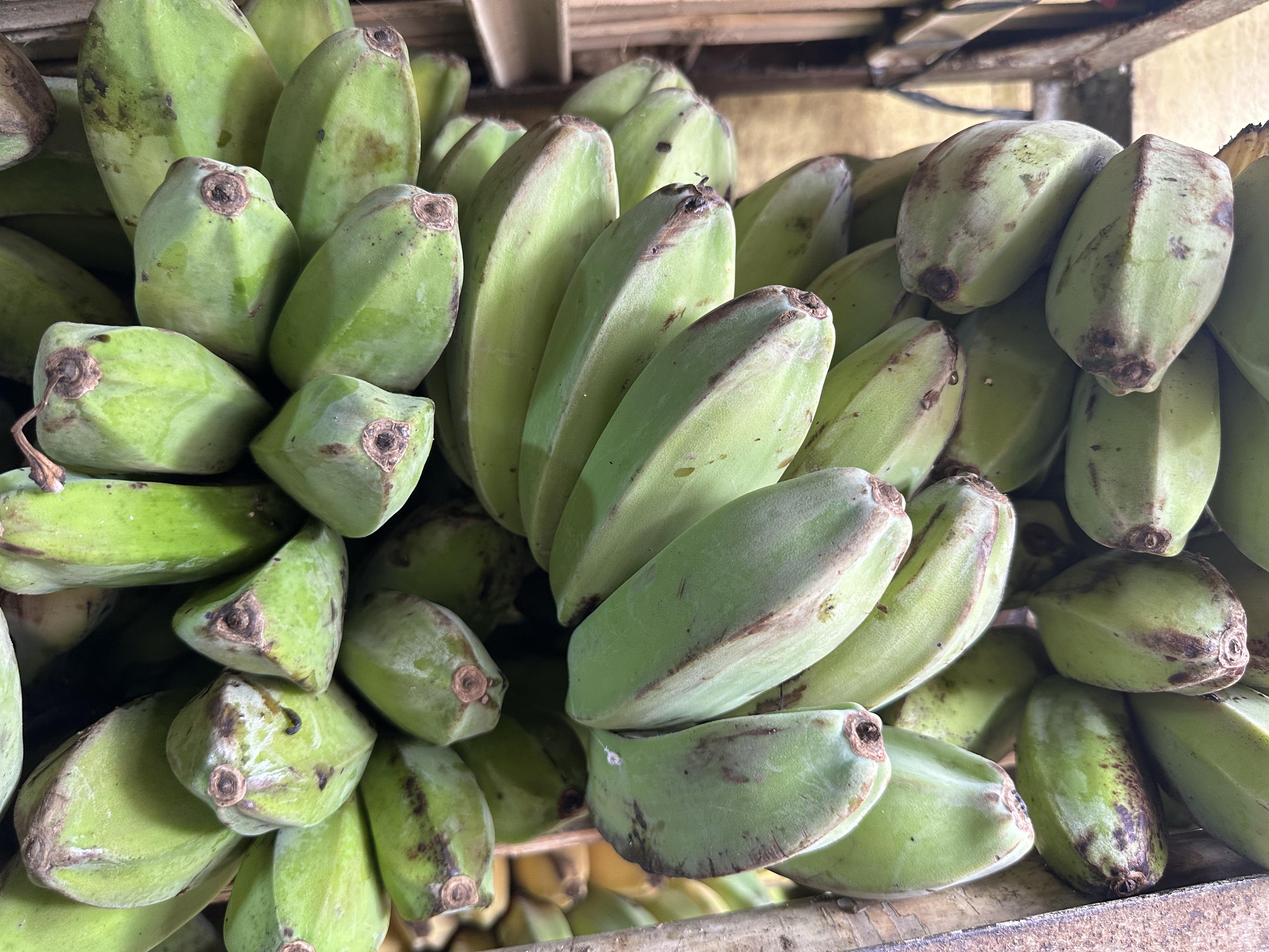underripe: (446, 59, 1033, 898), (0, 0, 463, 692), (0, 500, 587, 952), (809, 121, 1269, 574), (888, 500, 1269, 898)
